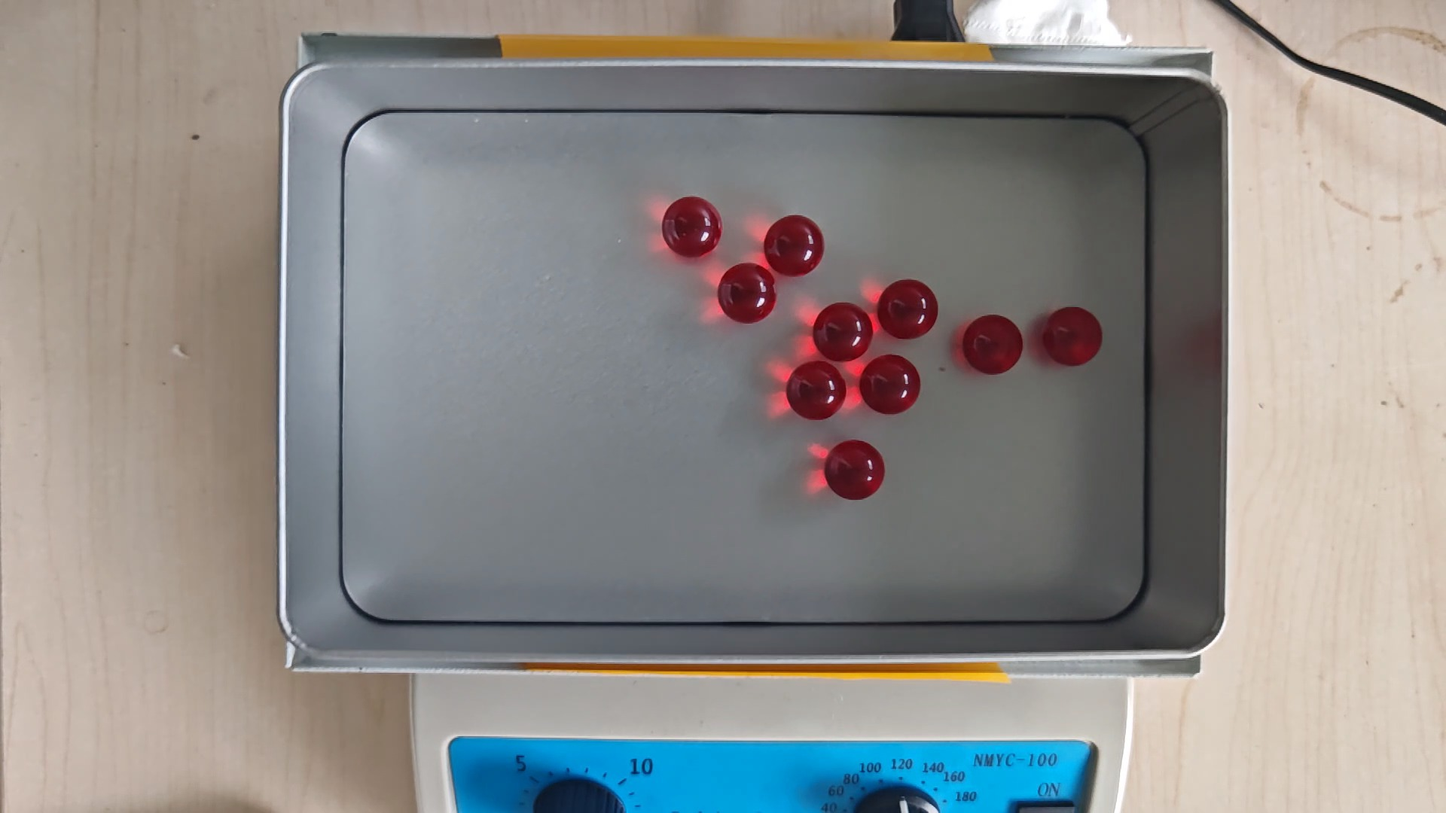ball: (661, 195, 721, 259), (963, 314, 1024, 375), (825, 439, 885, 501), (765, 215, 825, 276), (1043, 306, 1103, 367), (861, 353, 920, 415), (787, 361, 847, 421), (879, 278, 937, 339), (719, 262, 776, 324), (814, 302, 872, 362)
container: (341, 112, 1147, 623)
